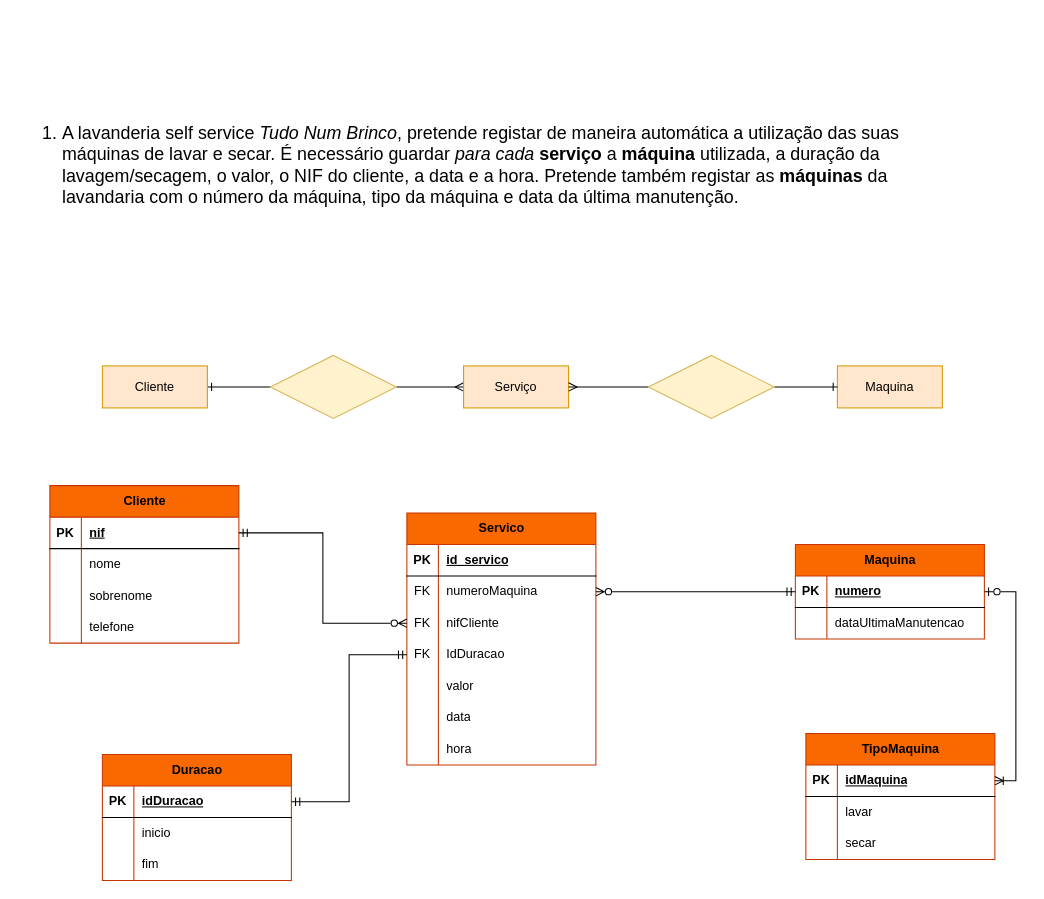
This 1044x899 diagram has some shape labels left out. The centre of each missing label's shape, as x and y in pixels:
"Possui" belongs at [710,386].
"Utiliza" belongs at [332,386].
